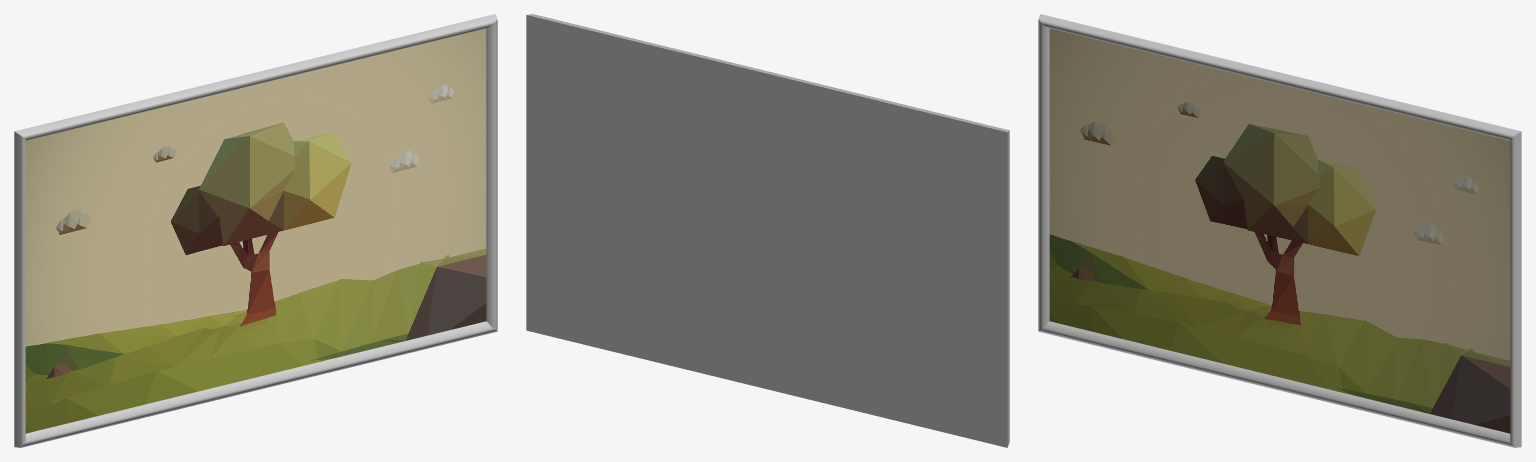
File: picture_008.fbx
The picture shows the model from 3 angles, left to right: view 1: azimuth 30°, elevation 25°; view 2: azimuth 150°, elevation 25°; view 3: azimuth 330°, elevation 25°; orthographic projection.
Parts seen in each view (by area): view 1: picture_008; view 2: picture_008; view 3: picture_008.
Part boxes in pixels (bbox=[...]): picture_008: bbox=[14, 14, 497, 447]; picture_008: bbox=[526, 14, 1009, 447]; picture_008: bbox=[1038, 14, 1521, 447].
Size of the model in its own units: 139 by 2.08 by 87.11.
